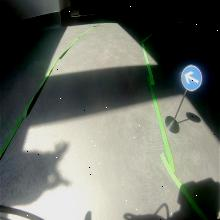left: (182, 64, 202, 93)
